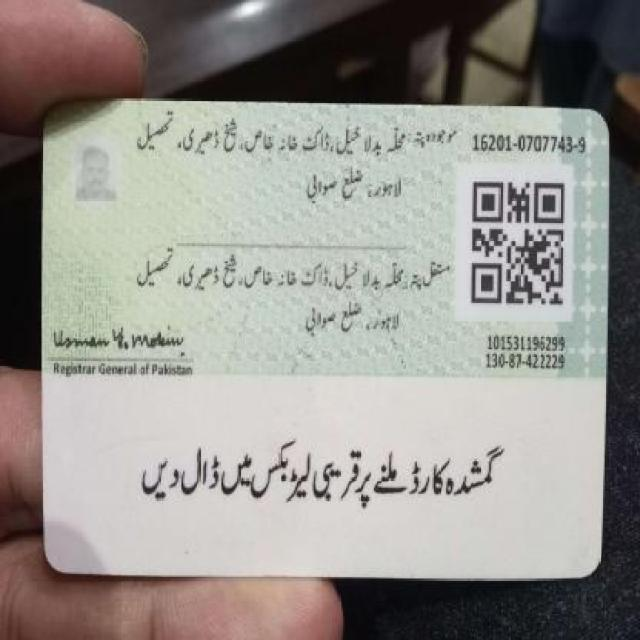Back: (40, 97, 612, 588)
